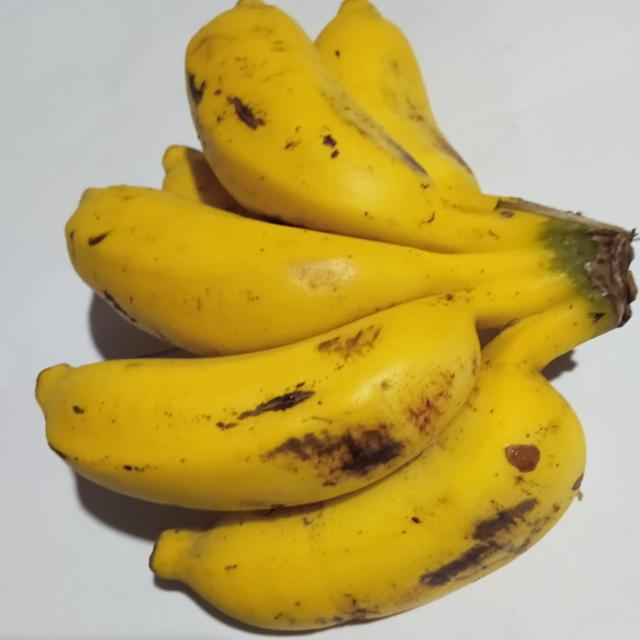banana: (151, 299, 612, 630), (36, 280, 554, 509), (186, 0, 590, 252), (66, 187, 615, 355), (316, 0, 479, 204), (163, 146, 241, 211)
